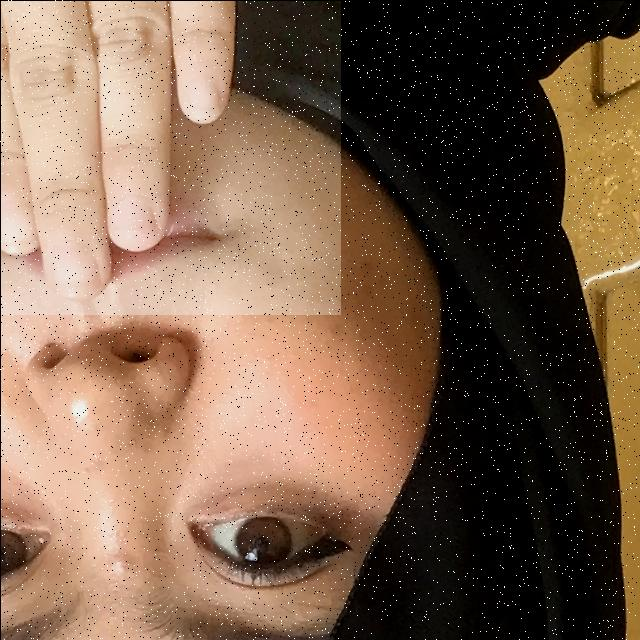ganteng: (0, 0, 340, 314)
